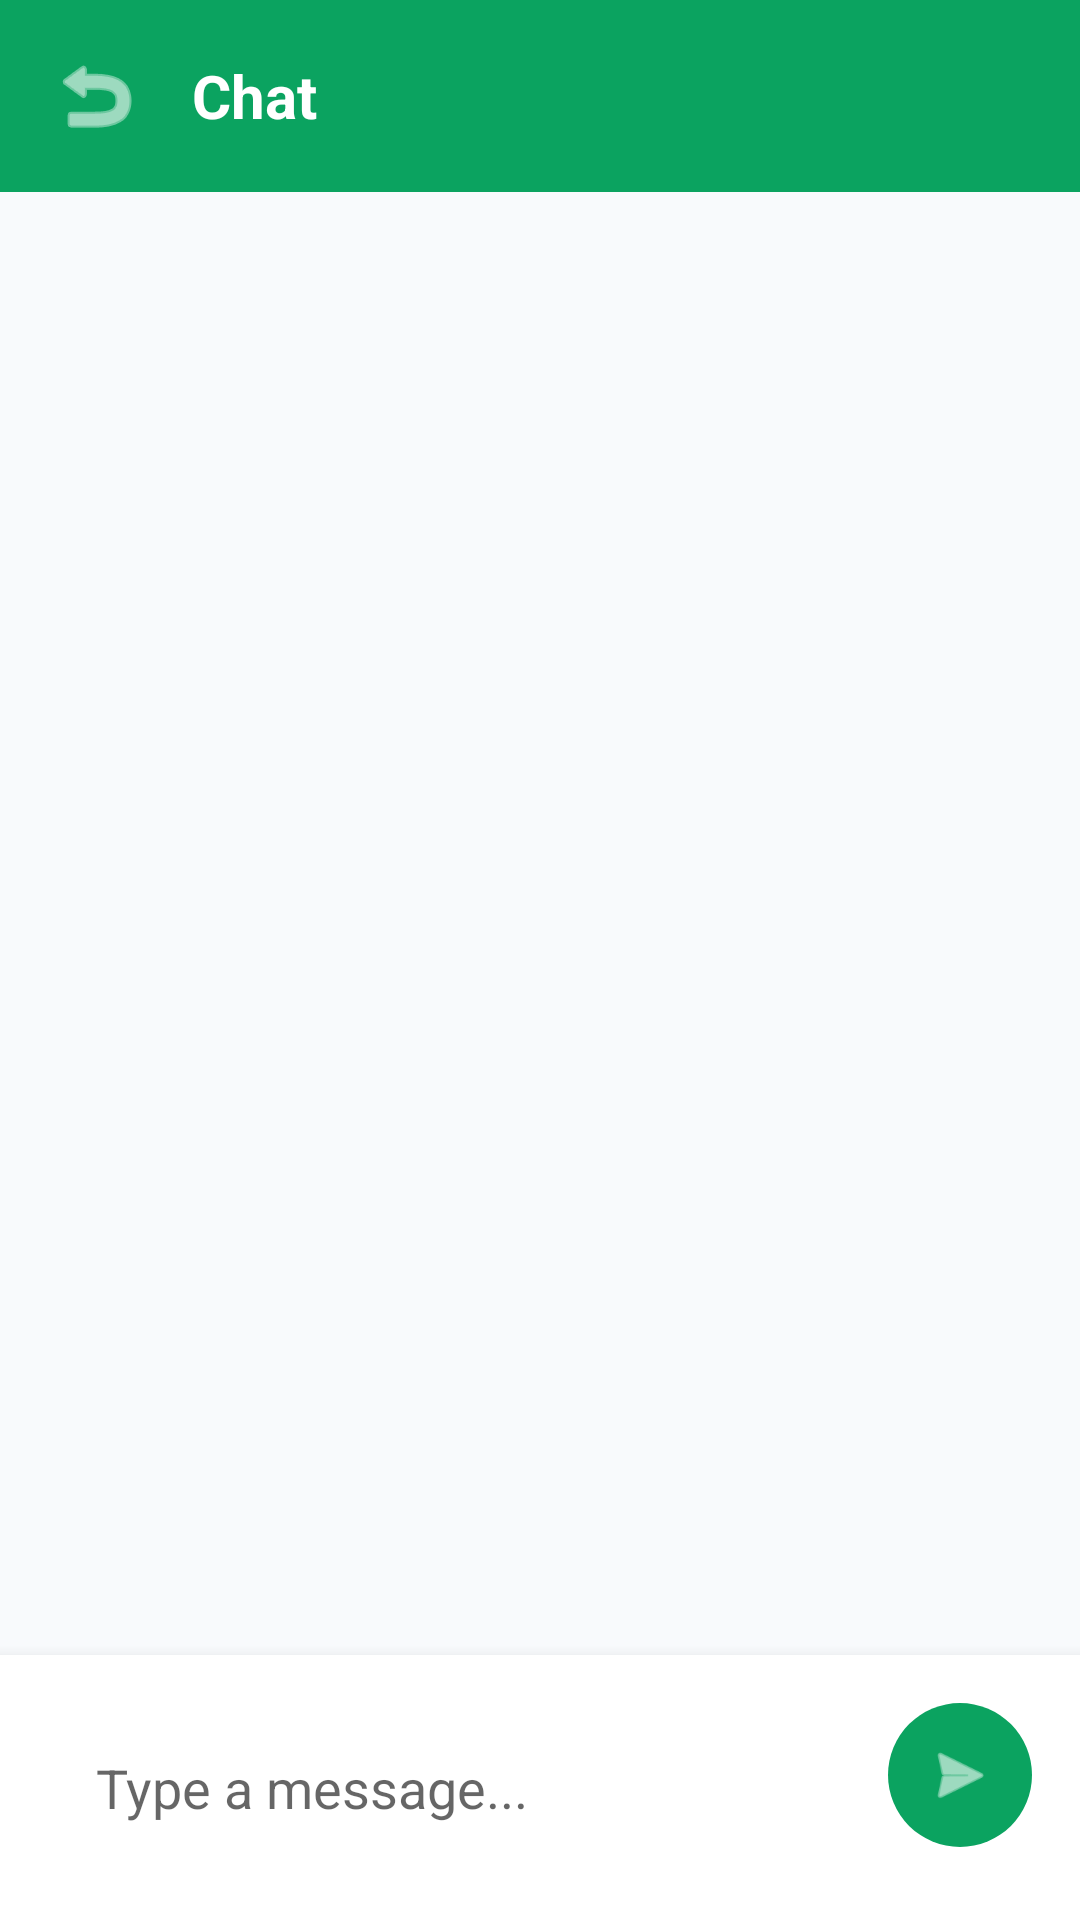

Icons on this 1080*1920 Android screen, each with its box as rect(x1, y1, x2, y2):
revert: rect(63, 65, 132, 128)
send: rect(888, 1703, 1032, 1847)
